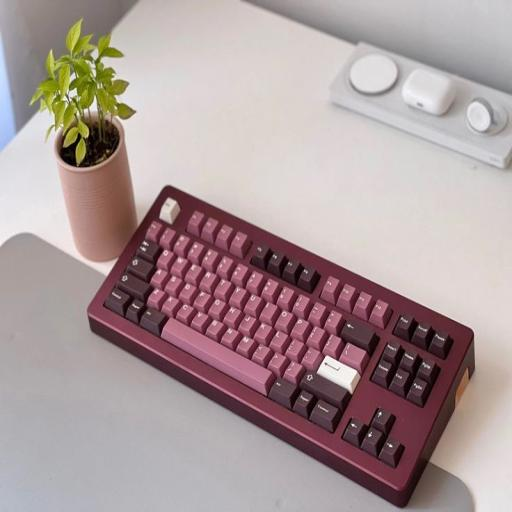keyboard: (88, 186, 474, 506)
